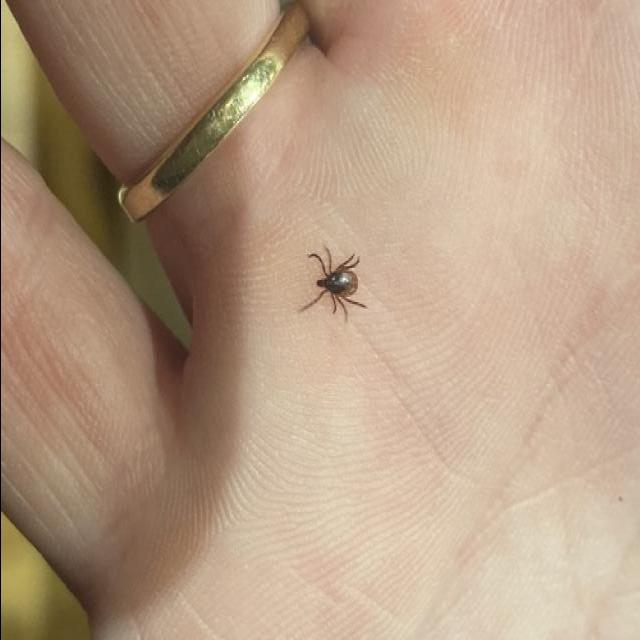Ixodes Ricinus-F: (300, 251, 365, 312)
